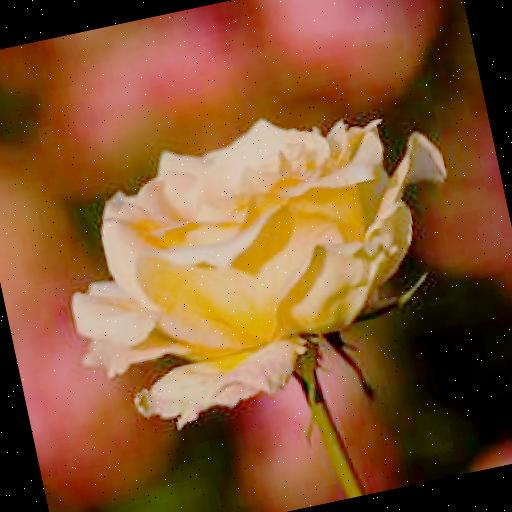rose: (40, 82, 474, 430)
